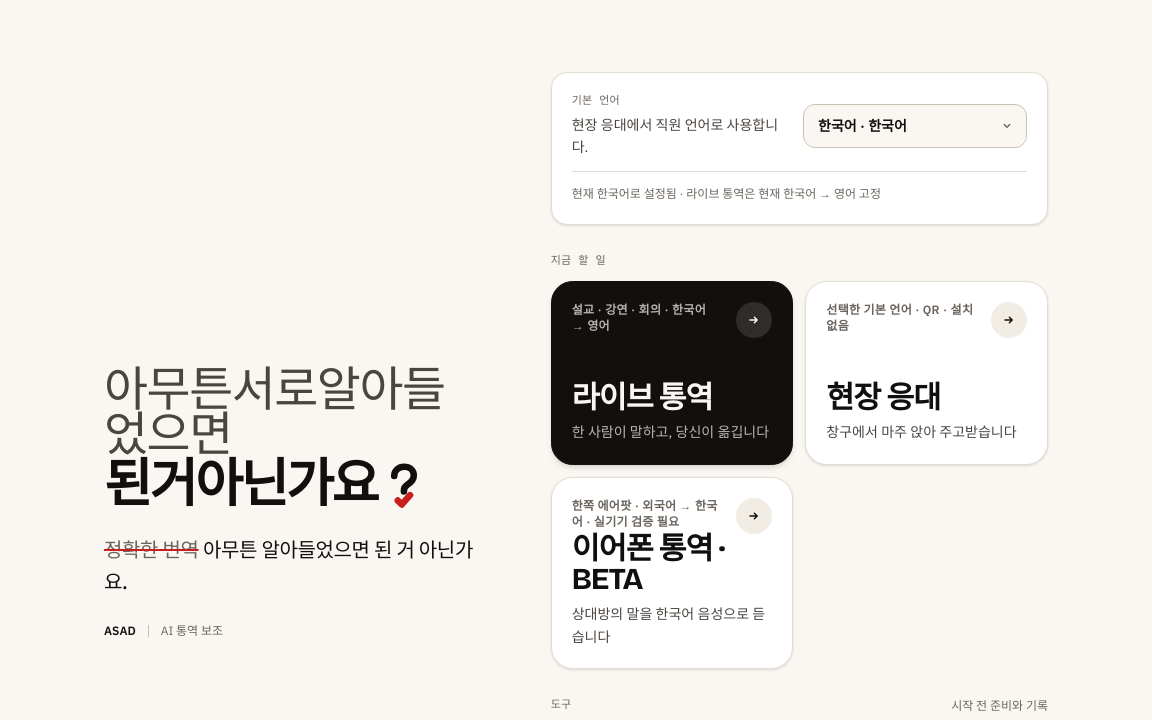
HomeScreen default language › persists the selected language for Counter Mode
Select "프랑스어 · Français" in the dropdown named "기본 언어 선택" at (915, 126), box x1=803 y1=104 x2=1027 y2=148
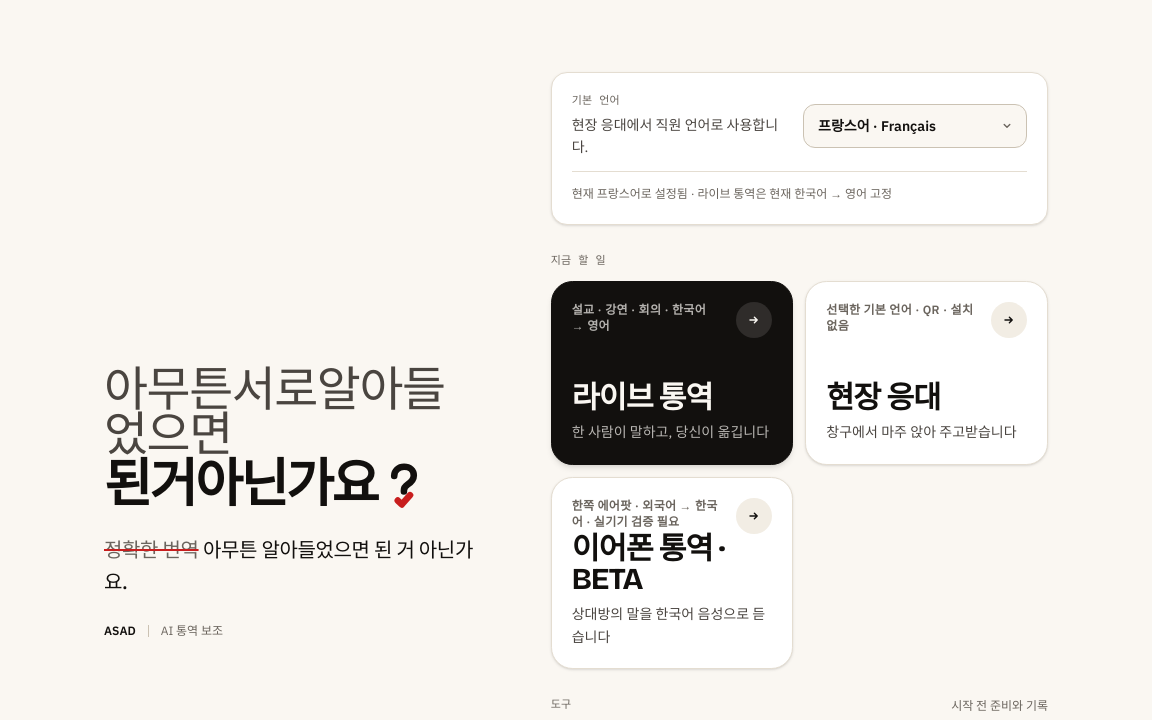
Expected: the text "현재 프랑스어로 설정됨 · 라이브 통역은 현재 한국어 → 영어 고정" is shown, x1=572 y1=171 x2=1027 y2=204
